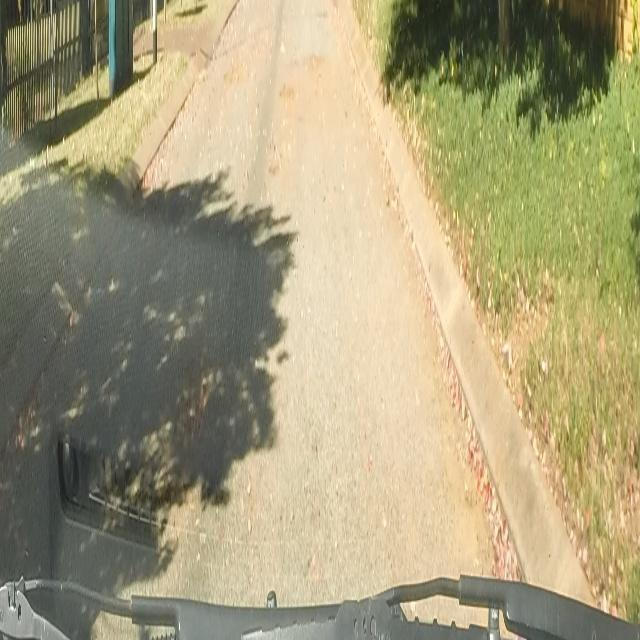pothole: (172, 377, 208, 438), (273, 81, 299, 107), (222, 61, 248, 82)
